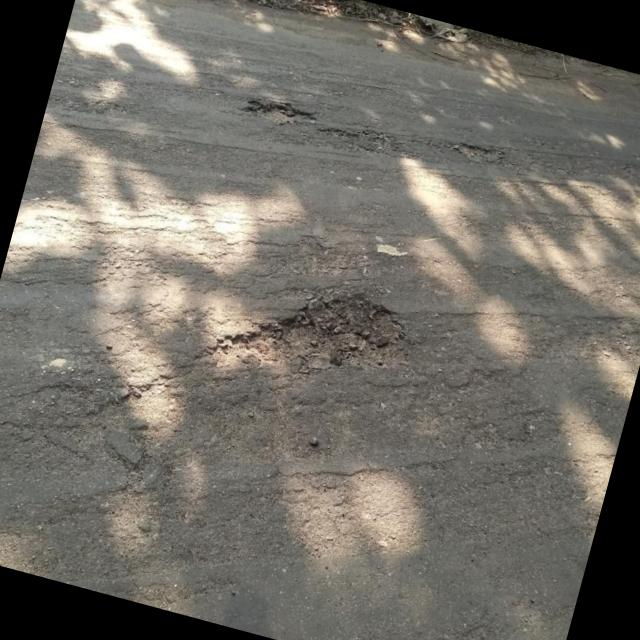Lubang: (214, 291, 405, 375), (242, 98, 313, 117), (452, 142, 503, 163)
